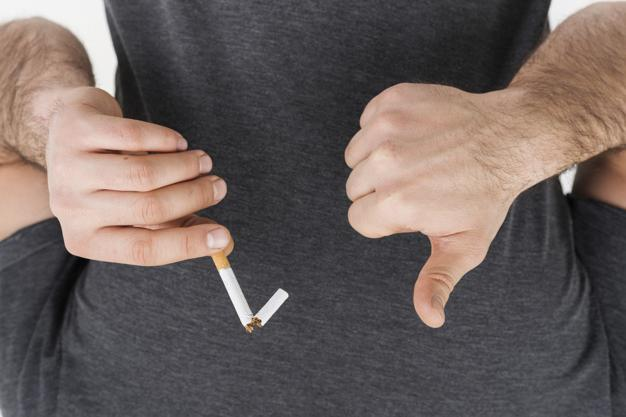thumbsdown: (343, 83, 470, 328)
